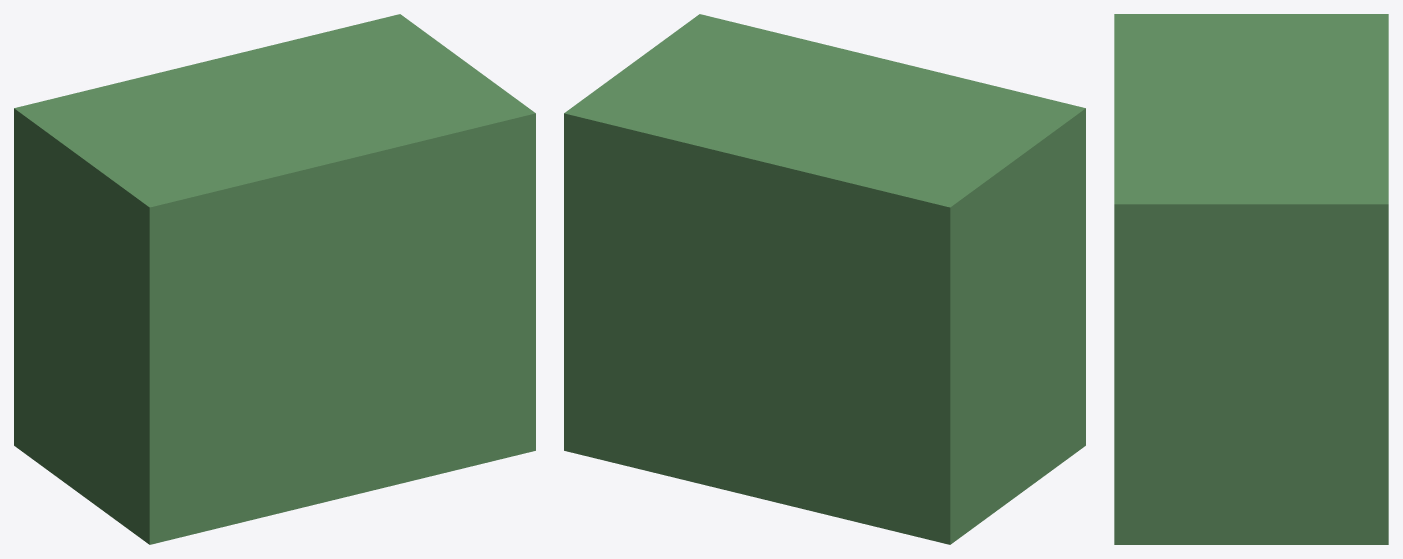
Rendered from nature_boxwood.glb.
The picture shows the model from 3 angles, left to right: view 1: azimuth 30°, elevation 25°; view 2: azimuth 150°, elevation 25°; view 3: azimuth 270°, elevation 25°; orthographic projection.
Parts seen in each view (by area): view 1: nature_boxwood; view 2: nature_boxwood; view 3: nature_boxwood.
Part boxes in pixels (bbox=[...]): nature_boxwood: bbox=[14, 14, 535, 544]; nature_boxwood: bbox=[564, 14, 1085, 544]; nature_boxwood: bbox=[1114, 14, 1388, 544].
Size of the model in its own units: 1.15 by 0.96 by 0.7.
